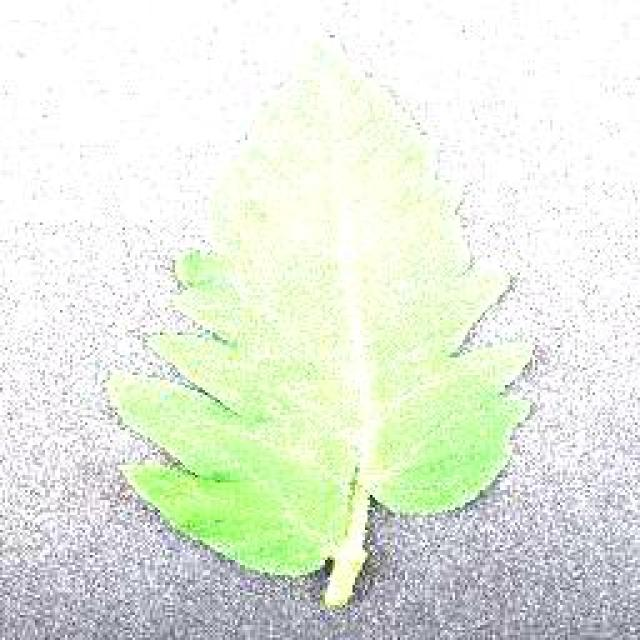Tomato___healthy: (105, 25, 541, 606)
